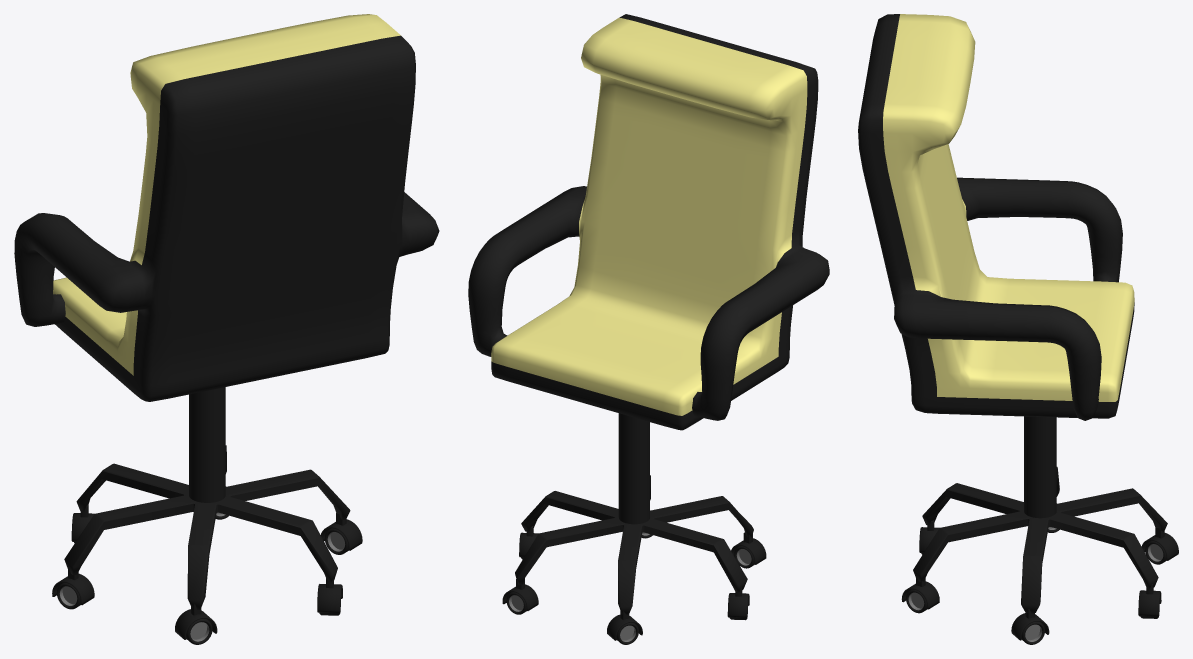
File: stolica.gltf
3 renders of one model, left to right at view 1: azimuth 30°, elevation 25°; view 2: azimuth 150°, elevation 25°; view 3: azimuth 270°, elevation 25°, orthographic. The views are drawn at different scales.
Visible parts, largest first — view 1: Object_61; view 2: Object_61; view 3: Object_61.
Part boxes in pixels (<box>): Object_61: <box>14,14,439,644</box>; Object_61: <box>468,14,829,644</box>; Object_61: <box>858,14,1178,644</box>.
Bounding box in the file's own units: 0.9923 × 1.64 × 0.9172.
Materials: 1 (1 with a texture image).
